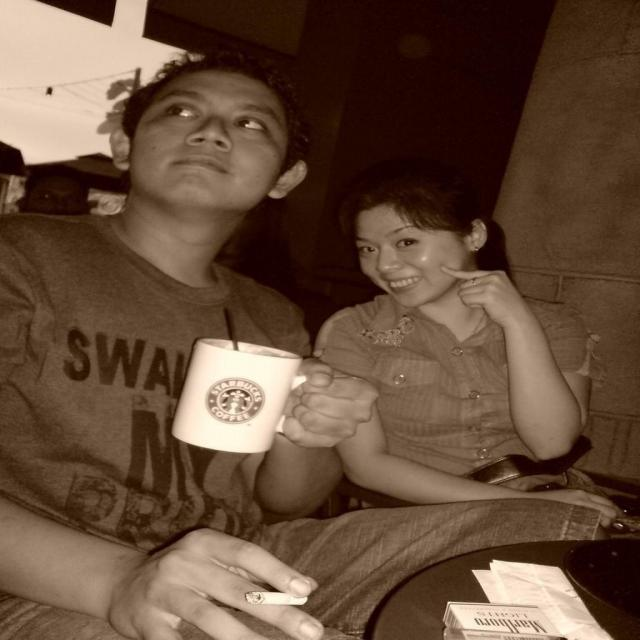cup-handle: (165, 336, 330, 455)
